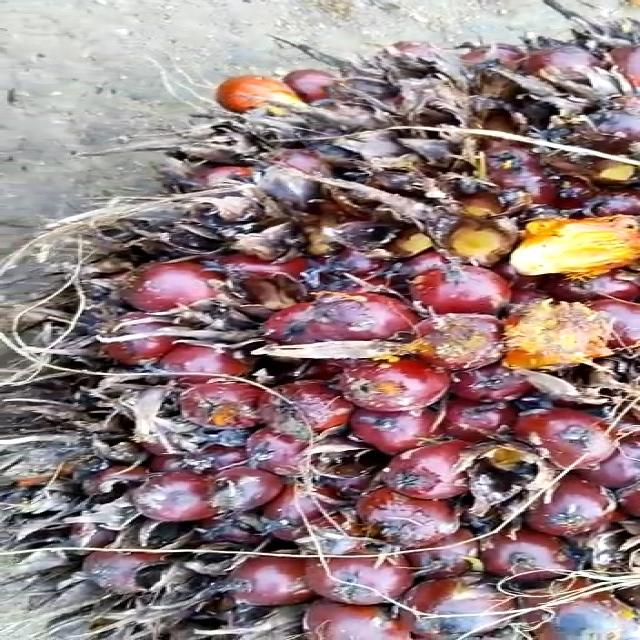palm oil: (52, 40, 640, 640)
